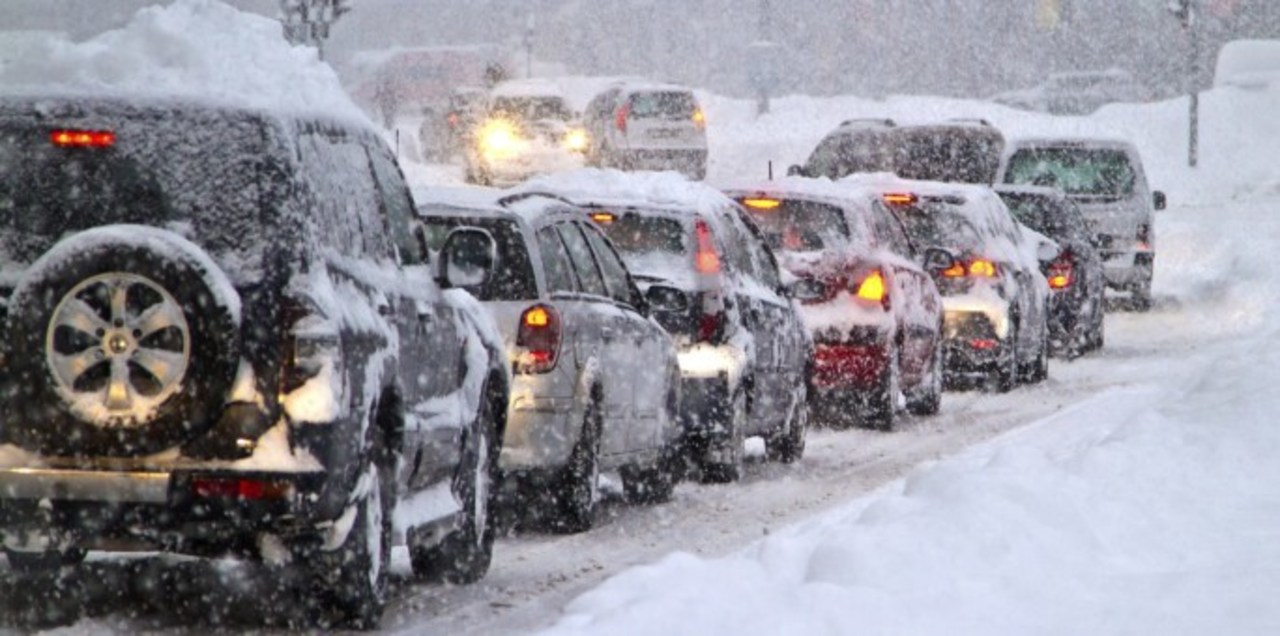car: (1, 87, 495, 624), (419, 177, 666, 517), (559, 178, 803, 480), (988, 133, 1163, 315), (810, 199, 928, 441), (939, 182, 1047, 409), (795, 118, 998, 188), (1026, 197, 1105, 360), (586, 78, 707, 181), (474, 90, 585, 183), (990, 59, 1137, 121), (412, 86, 472, 167)
